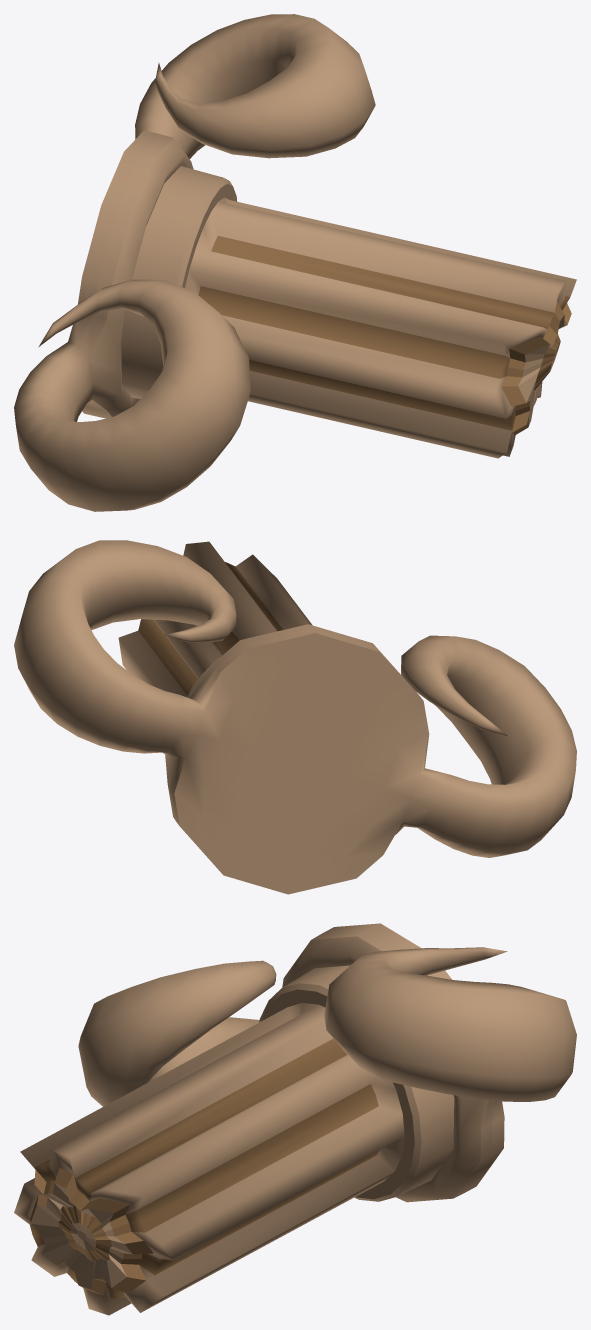
Rendered from Broken_Pillar_Top_Var_3.fbx.
The picture shows the model from 3 angles, top to bottom: view 1: azimuth 30°, elevation 25°; view 2: azimuth 150°, elevation 25°; view 3: azimuth 270°, elevation 25°; orthographic projection. The views are drawn at different scales.
Visible parts, largest first — view 1: Pillar_Top; view 2: Pillar_Top; view 3: Pillar_Top.
Boxes of the visible parts, box(x1,y1,x2,y2) form: Pillar_Top: box(14, 14, 576, 511); Pillar_Top: box(14, 540, 576, 894); Pillar_Top: box(14, 923, 576, 1315).
Size of the model in its own units: 393 by 380 by 238.
